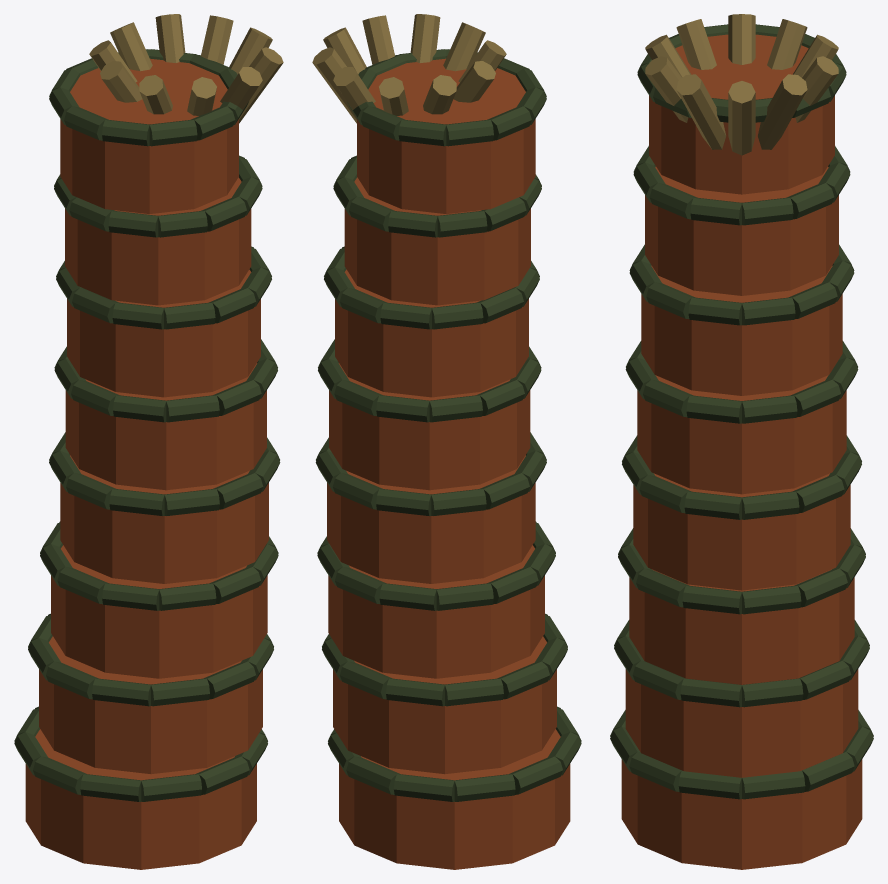
The model's file is SM_MP_Burrow_Worm.fbx.
The picture shows the model from 3 angles, left to right: view 1: azimuth 30°, elevation 25°; view 2: azimuth 150°, elevation 25°; view 3: azimuth 270°, elevation 25°; orthographic projection. The views are drawn at different scales.
Parts seen in each view (by area): view 1: SM_MP_Burrow_Worm; view 2: SM_MP_Burrow_Worm; view 3: SM_MP_Burrow_Worm.
Part boxes in pixels (left/top/right/bottom): SM_MP_Burrow_Worm: left=14, top=14, right=283, bottom=869; SM_MP_Burrow_Worm: left=312, top=14, right=581, bottom=869; SM_MP_Burrow_Worm: left=610, top=14, right=873, bottom=869.
Size of the model in its own units: 95.65 by 87.73 by 291.
Materials: 1 (1 with a texture image).
